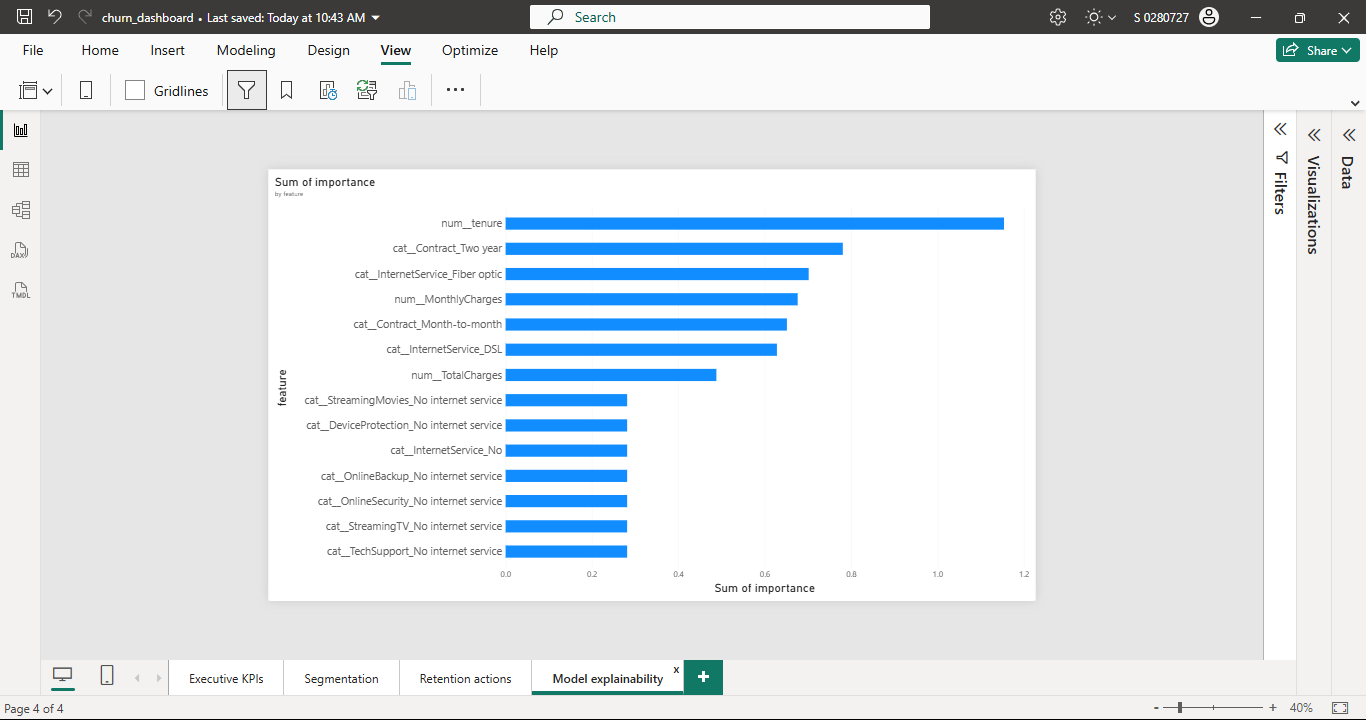

The dashboard page shown, as its layout file describes it:
{"tool":"powerbi","page":{"name":"Model explainability","canvas":[1920,1080],"ordinal":3},"visuals":[{"type":"clusteredBarChart","fields":{"Category":["feature_importance.feature"],"Y":["Sum(feature_importance.importance)"]},"box":[0,0,1920,1080.9],"z":0}]}

Visuals, with their boxes on the page's 1920x1080 design canvas (x1, y1, x2, y2). These are canvas units, not pixel positions in the 1366x720 screenshot, which may show the page scaled, cropped or inside an application window:
clusteredBarChart - feature_importance.feature x Sum(feature_importance.importance): {"left": 0, "top": 0, "right": 1920, "bottom": 1081}
